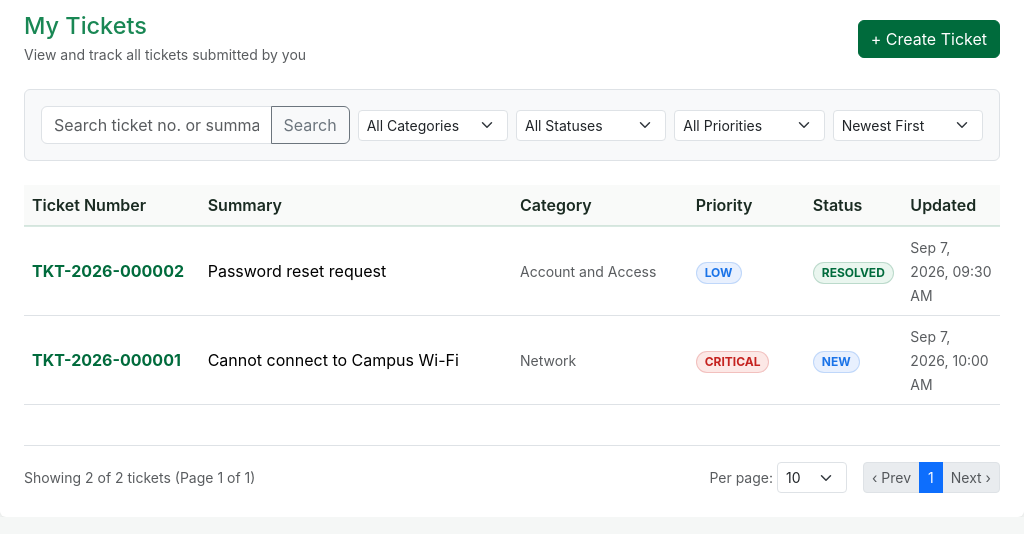
it: MyTickets Component (Issue 13 UI Tests) › UI-04: Sorts by Priority and ensures Critical appears before Low
The width and height of the screenshot is (1024, 534).
Expected: the text "TKT-2026-000001" is shown, [32,350,181,370]
Select "Priority (High to Low)" in the dropdown named "sort tickets". click: [908, 125]
box: [833,110,983,141]
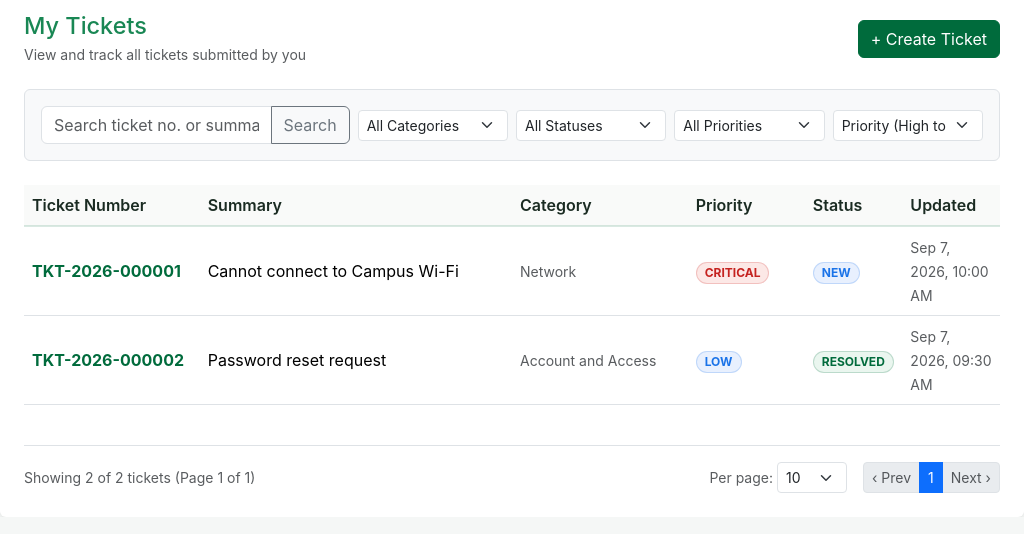
Expected: the text "CRITICAL" is shown, [696,262,770,284]
